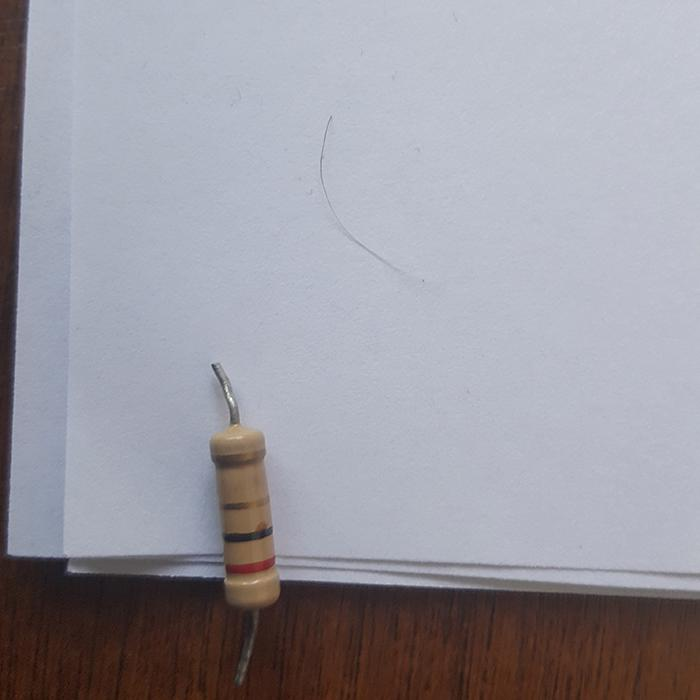resistor: (209, 423, 284, 613)
